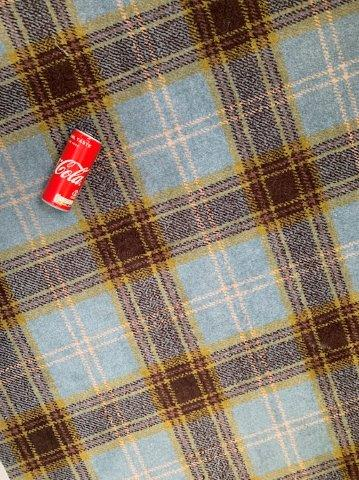kaleng: (43, 129, 100, 210)
